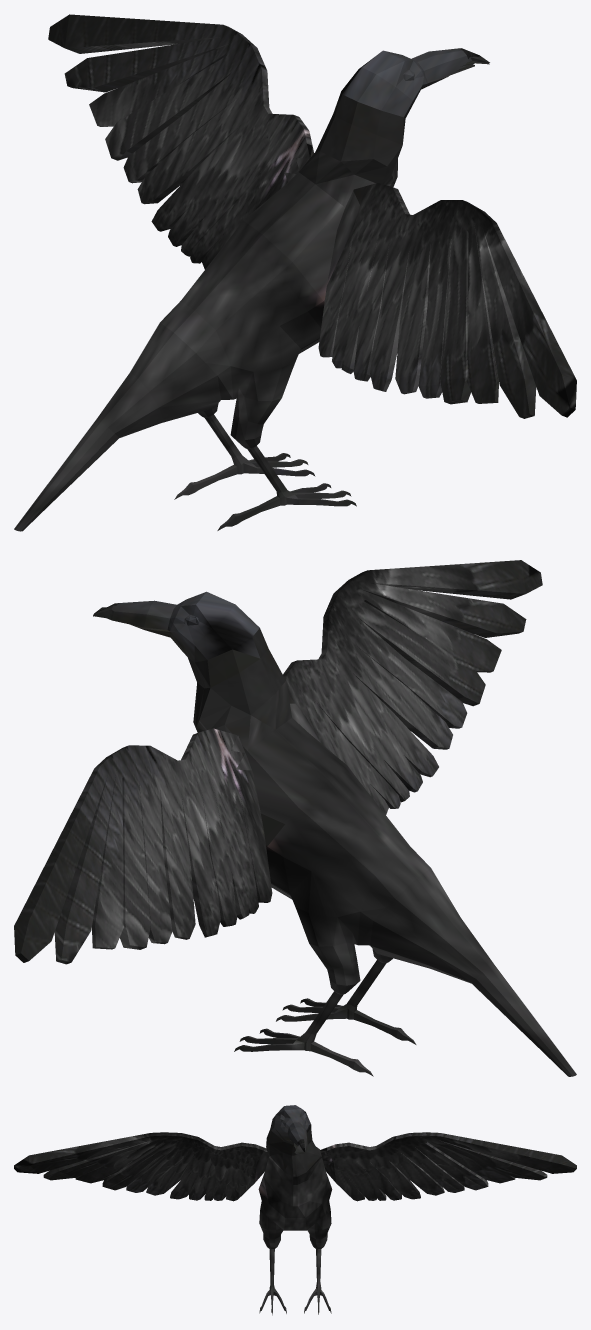
The model's file is two.obj.
3 views of the same model, one above another, from view 1: azimuth 30°, elevation 25°; view 2: azimuth 150°, elevation 25°; view 3: azimuth 270°, elevation 25° (orthographic). The views are drawn at different scales.
Parts seen in each view (by area): view 1: Cylinder; view 2: Cylinder; view 3: Cylinder.
Boxes of the visible parts, x1,y1,x2,y2 form: Cylinder: (14, 14, 576, 531); Cylinder: (14, 560, 576, 1076); Cylinder: (14, 1105, 576, 1315).
Bounding box in the file's own units: 0.9941 × 0.8259 × 1.88.
